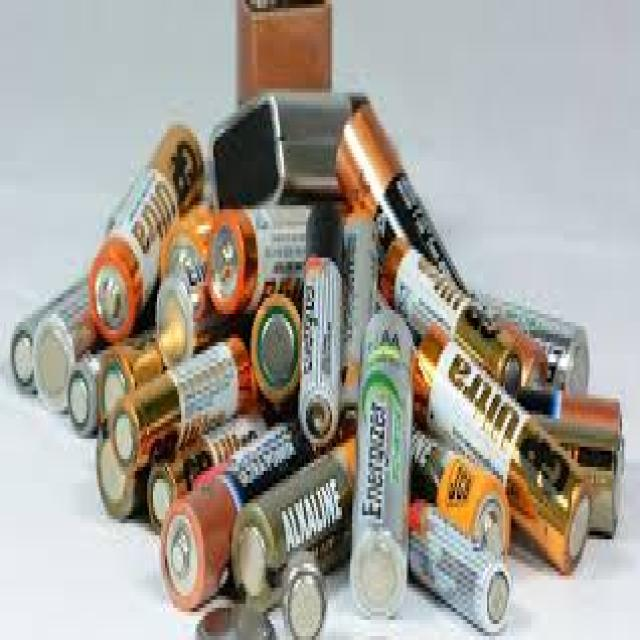battery: (10, 0, 622, 628)
